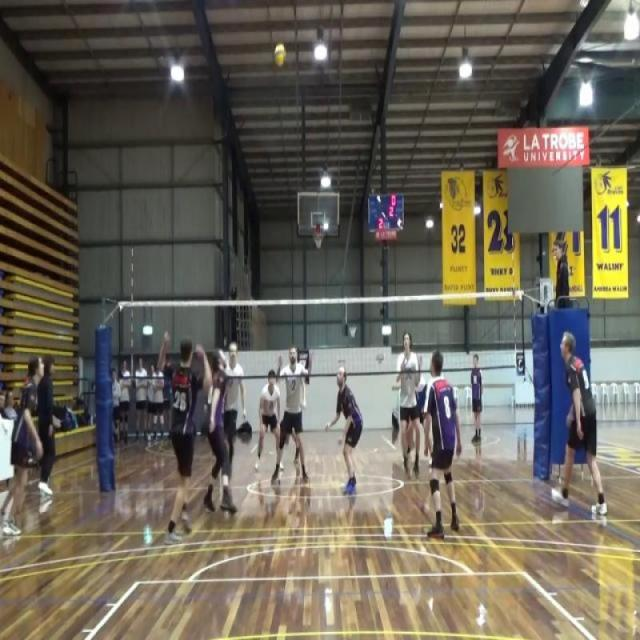volleyball: (274, 42, 286, 70)
